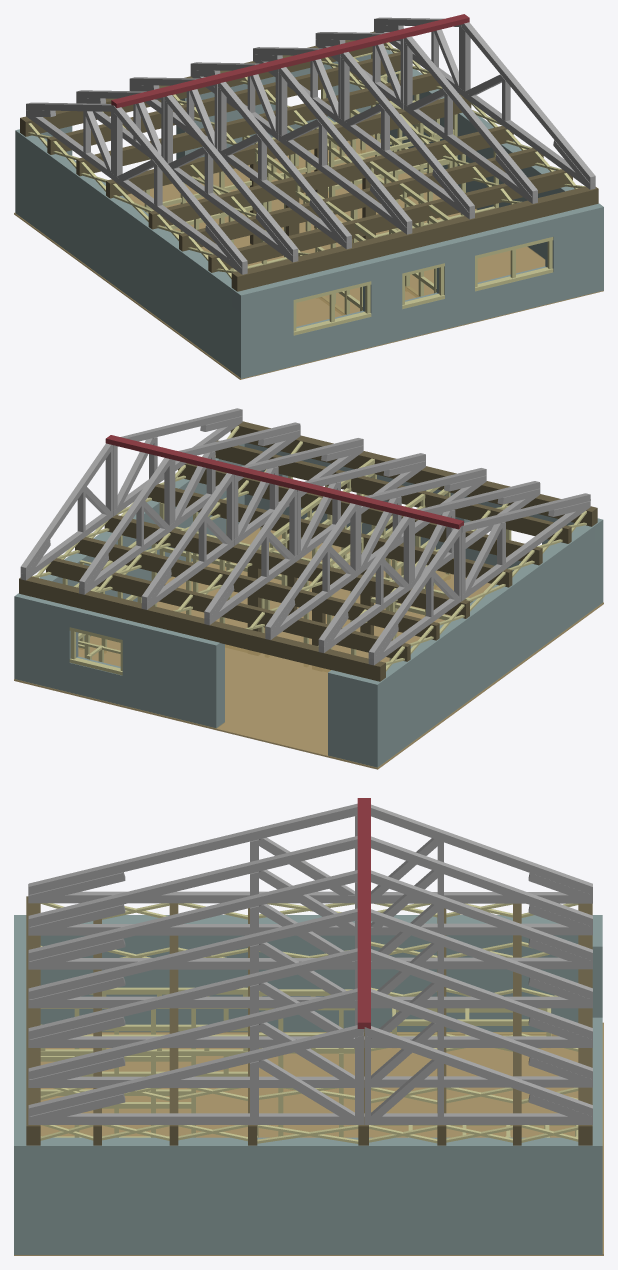
The model's file is Elecrical_construction_Design_v007.fbx.
3 renders of one model, top to bottom at view 1: azimuth 30°, elevation 25°; view 2: azimuth 150°, elevation 25°; view 3: azimuth 270°, elevation 25°, orthographic. The views are drawn at different scales.
Visible parts, largest first — view 1: Wall01, roft_woodply05 (×14), roft_woodply03 (×8), pCube3, Ground01, pCube8, pCube2, roft_woodply01 (×7), pCube9, pCube7, pCube1, pCube6 (+6 smaller); view 2: Wall01, roft_woodply05 (×14), Ground01, roft_woodply03 (×14), pCube4, pCube6, roft_woodply02 (×7), pCube5, pCube9, pCube1, pCube8, pCube3 (+3 smaller); view 3: Wall01, roft_woodply05 (×14), roft_woodply03 (×14), Ground01, roft_woodply02 (×14), roft_woodply06 (×7), pCube9, pCube3, pCube4, pCube7, pCube5, Pilloer71 (+2 smaller).
Part boxes in pixels (<box>): Wall01: <box>15,49,603,378</box>; roft_woodply05 (×14): <box>26,17,595,268</box>; roft_woodply03 (×8): <box>26,89,595,274</box>; pCube3: <box>231,186,598,291</box>; Ground01: <box>14,135,603,379</box>; pCube8: <box>208,169,572,272</box>; pCube2: <box>148,126,513,229</box>; roft_woodply01 (×7): <box>113,27,470,176</box>; pCube9: <box>111,14,469,108</box>; pCube7: <box>179,148,543,251</box>; pCube1: <box>106,94,471,198</box>; pCube6: <box>76,73,440,176</box>; Wall01: <box>14,443,603,767</box>; roft_woodply05 (×14): <box>20,408,590,658</box>; Ground01: <box>14,527,603,769</box>; roft_woodply03 (×14): <box>20,416,590,665</box>; pCube4: <box>19,576,385,681</box>; pCube6: <box>75,537,439,640</box>; roft_woodply02 (×7): <box>117,438,502,592</box>; pCube5: <box>46,558,410,661</box>; pCube9: <box>105,435,463,529</box>; pCube1: <box>104,514,469,618</box>; pCube8: <box>215,440,571,543</box>; pCube3: <box>230,421,597,526</box>; Wall01: <box>14,915,602,1254</box>; roft_woodply05 (×14): <box>28,803,592,1116</box>; roft_woodply03 (×14): <box>28,891,592,1124</box>; Ground01: <box>14,1022,603,1255</box>; roft_woodply02 (×14): <box>259,837,437,1116</box>; roft_woodply06 (×7): <box>31,872,125,1116</box>; pCube9: <box>357,798,370,1028</box>; pCube3: <box>26,896,40,1145</box>; pCube4: <box>578,903,592,1145</box>; pCube7: <box>169,903,178,1145</box>; pCube5: <box>513,903,521,1145</box>; Pilloer71: <box>40,1049,247,1055</box>.
Size of the model in its own units: 86.54 by 41.27 by 93.2.
